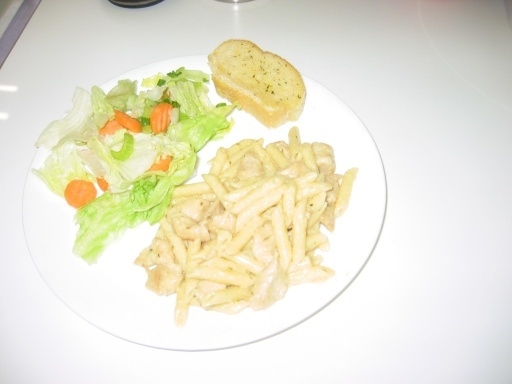background: (26, 22, 286, 195)
